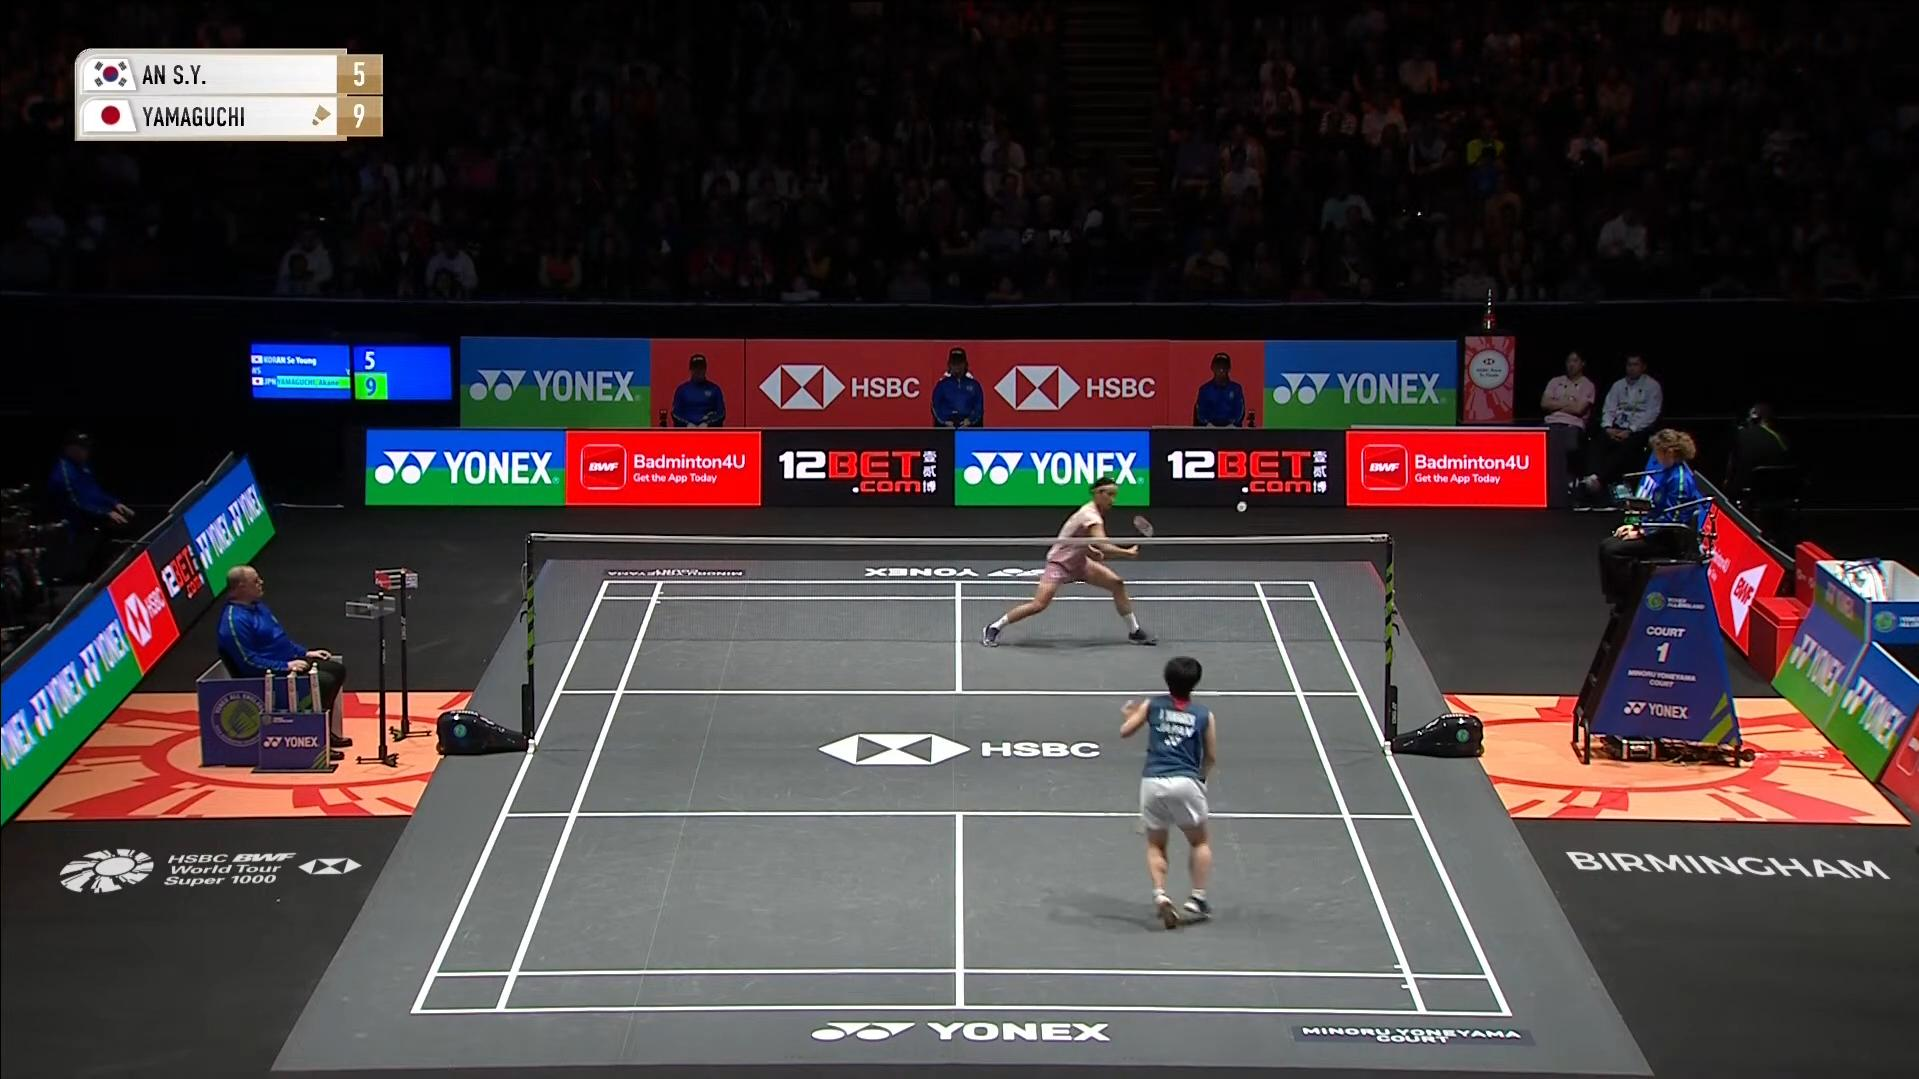shuttle: (1230, 497, 1249, 516)
